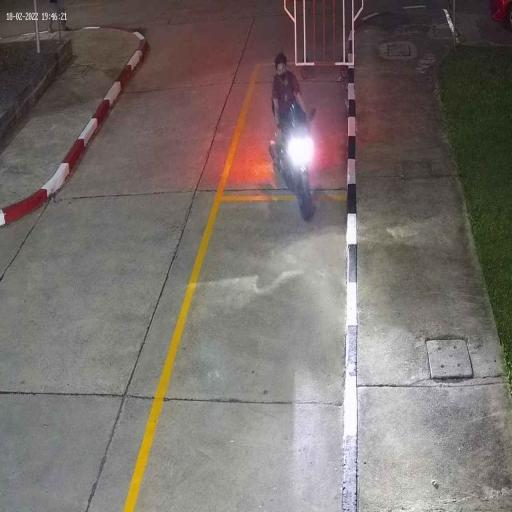motorcycle: (268, 105, 318, 223)
